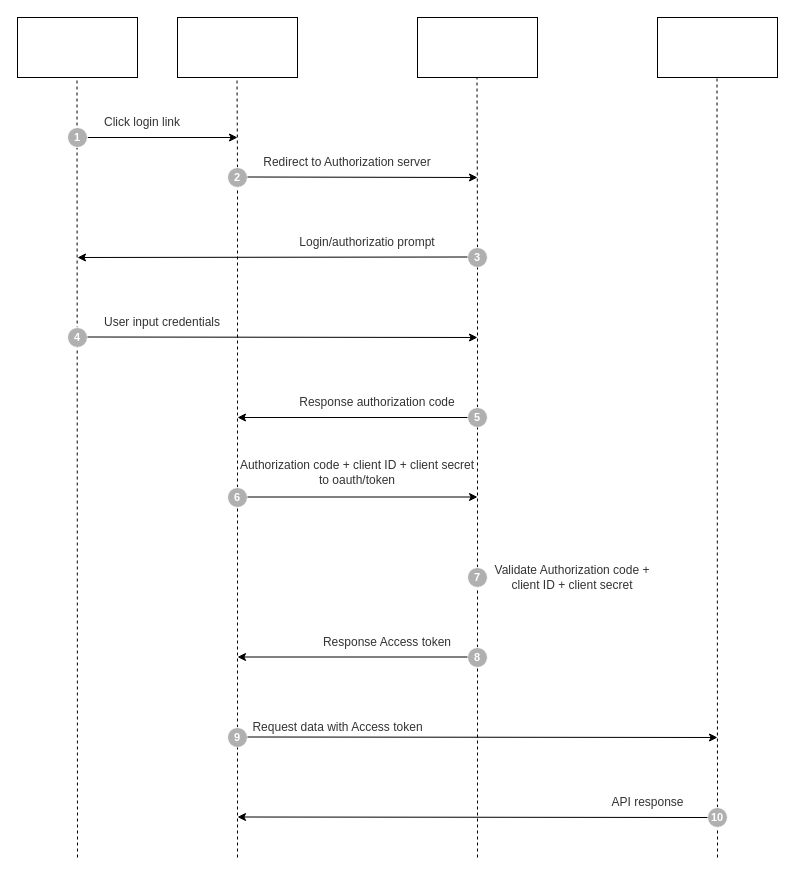
The diagram is 795 pixels wide and 876 high, and some of its shapes have lost their labels. The centre of each missing label's shape, as x and y in pixels:
"API" belongs at (717,47).
"Application" belongs at (237,47).
"Auth0" belongs at (477,47).
"User" belongs at (77,47).
